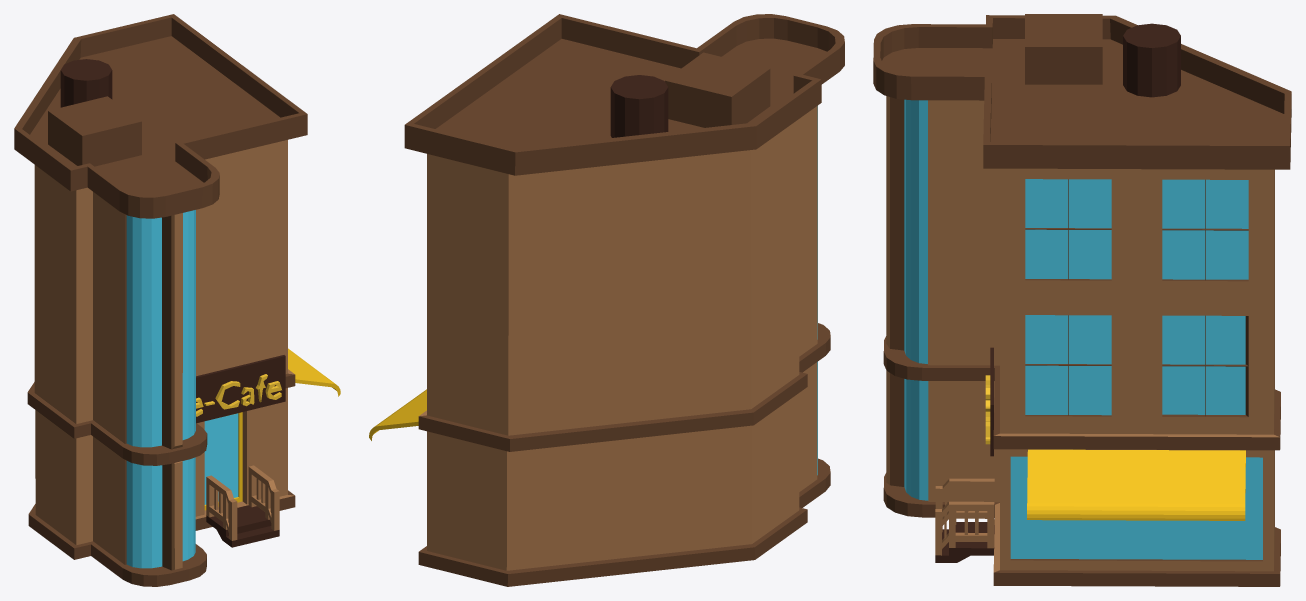
Rendered from Building_Cafe.glb.
3 views of the same model, side by side, from view 1: azimuth 30°, elevation 25°; view 2: azimuth 150°, elevation 25°; view 3: azimuth 270°, elevation 25° (orthographic). The views are drawn at different scales.
Parts seen in each view (by area): view 1: Building_Cafe; view 2: Building_Cafe; view 3: Building_Cafe.
Part boxes in pixels (bbox=[...]): Building_Cafe: bbox=[14, 14, 340, 586]; Building_Cafe: bbox=[369, 14, 844, 586]; Building_Cafe: bbox=[873, 14, 1291, 586].
Bounding box in the file's own units: 14.99 × 20.76 × 16.61.
1 material, 1 textured.
